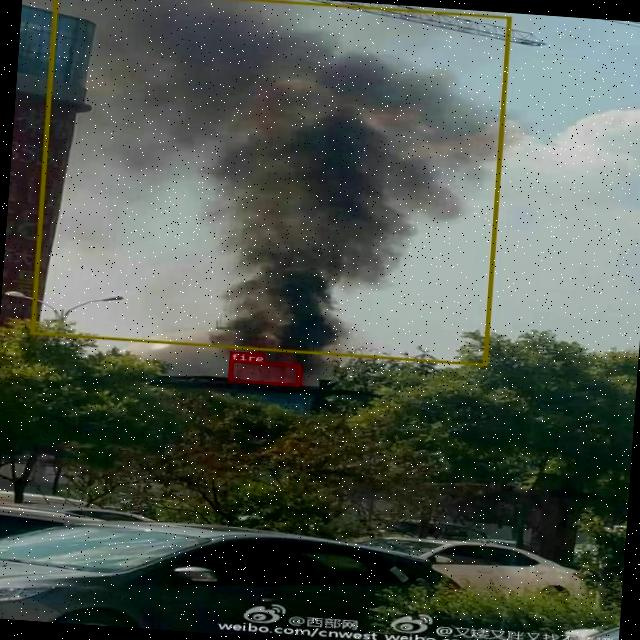fire: (227, 358, 300, 386)
smoke: (29, 0, 510, 365)
